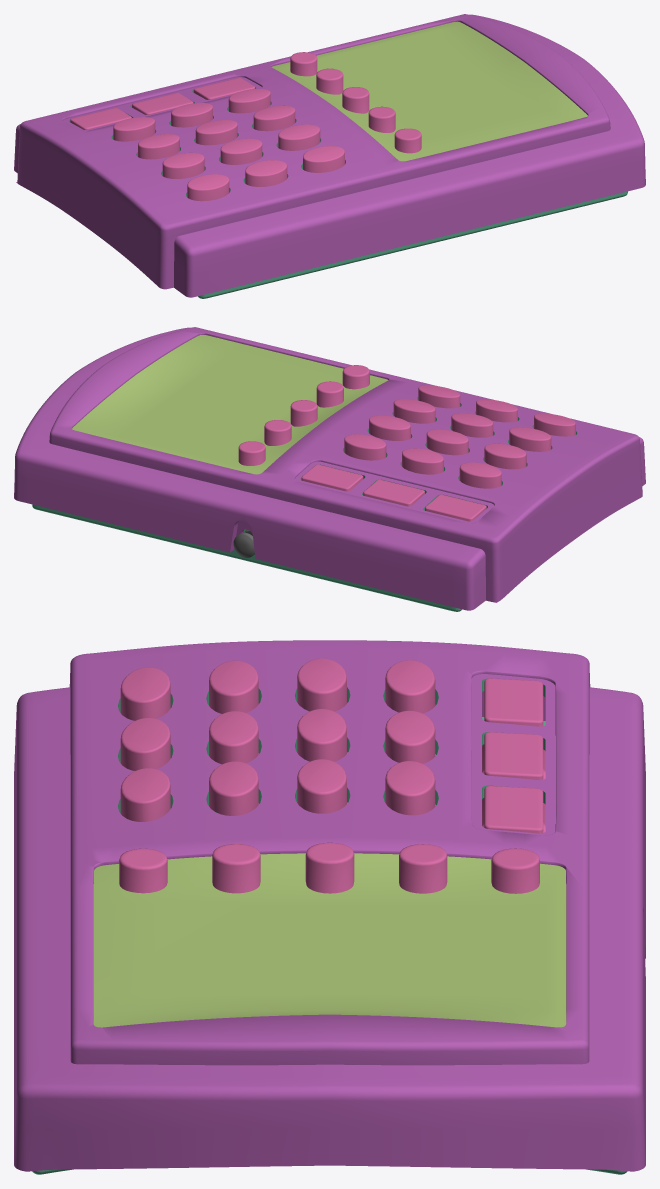
3 renders of one model, top to bottom at view 1: azimuth 30°, elevation 25°; view 2: azimuth 150°, elevation 25°; view 3: azimuth 270°, elevation 25°, orthographic. The views are drawn at different scales.
Parts seen in each view (by area): view 1: K010_LOD0; view 2: K010_LOD0; view 3: K010_LOD0.
Boxes of the visible parts, <box> form: K010_LOD0: <box>14,14,645,298</box>; K010_LOD0: <box>14,327,645,611</box>; K010_LOD0: <box>14,640,645,1174</box>.
Size of what is drawn, in the model's own units: 15.58 by 2.73 by 9.6.
